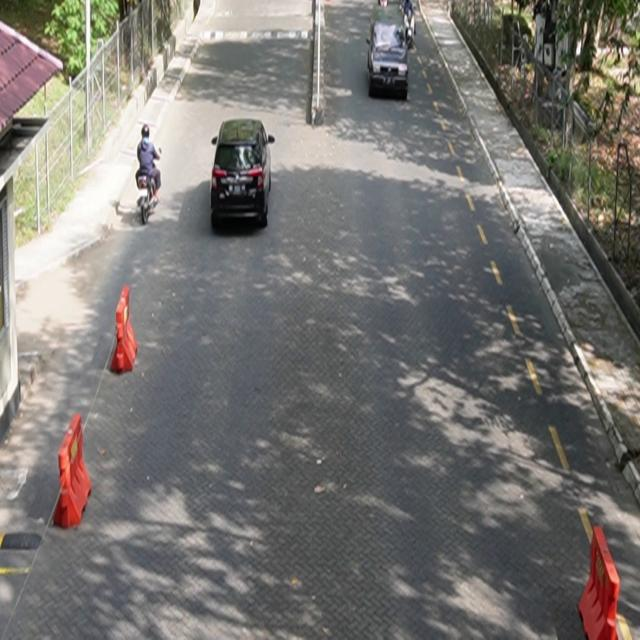car: (211, 118, 276, 230), (367, 6, 410, 100)
